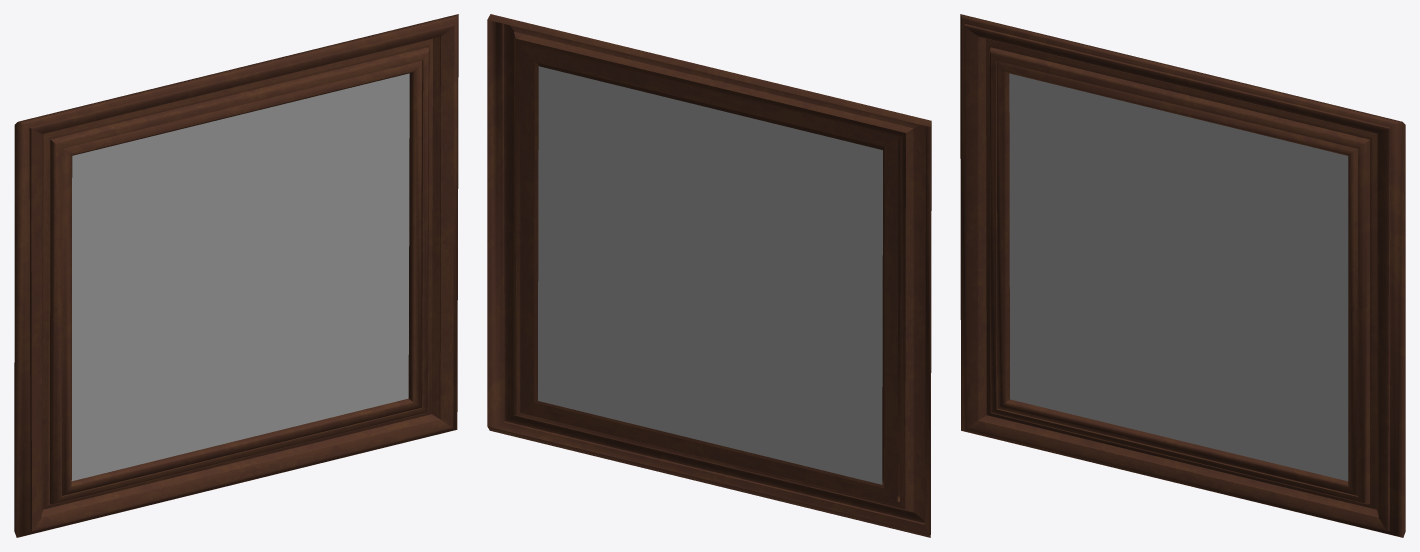
The model's file is SM_FrameRaktangle.fbx.
3 renders of one model, left to right at view 1: azimuth 30°, elevation 25°; view 2: azimuth 150°, elevation 25°; view 3: azimuth 330°, elevation 25°, orthographic.
Parts seen in each view (by area): view 1: FrameRaktangle; view 2: FrameRaktangle; view 3: FrameRaktangle.
Part boxes in pixels (box(x1,y1,x2,y2)): FrameRaktangle: box(14, 14, 458, 537); FrameRaktangle: box(487, 14, 931, 537); FrameRaktangle: box(960, 14, 1405, 537).
Bounding box in the file's own units: 340 × 306 × 11.23.
Materials: 2 (1 with a texture image).
